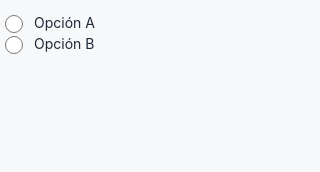
Radio › asocia la etiqueta y se puede seleccionar
This screenshot has width=320, height=172.
What coordinates should you click on to do the following:
click the radio button labelled "Opción B"
I would click on:
 (14, 45)
Its box is [5,36,23,54].
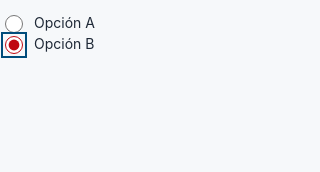
Expected: the radio button labelled "Opción A" is not checked, [5,15,23,33]
Result: the radio button labelled "Opción B" is checked at [5,36,23,54]
